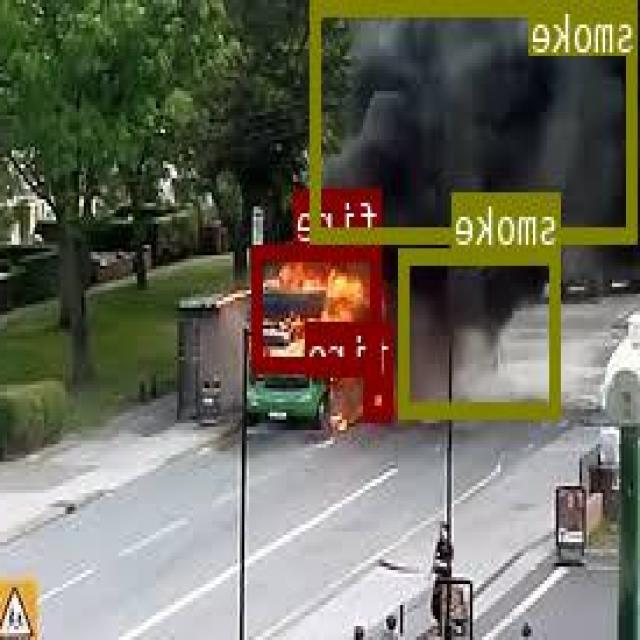fire: (254, 244, 384, 370), (366, 377, 395, 416)
smoke: (312, 0, 640, 238), (402, 247, 561, 415)
